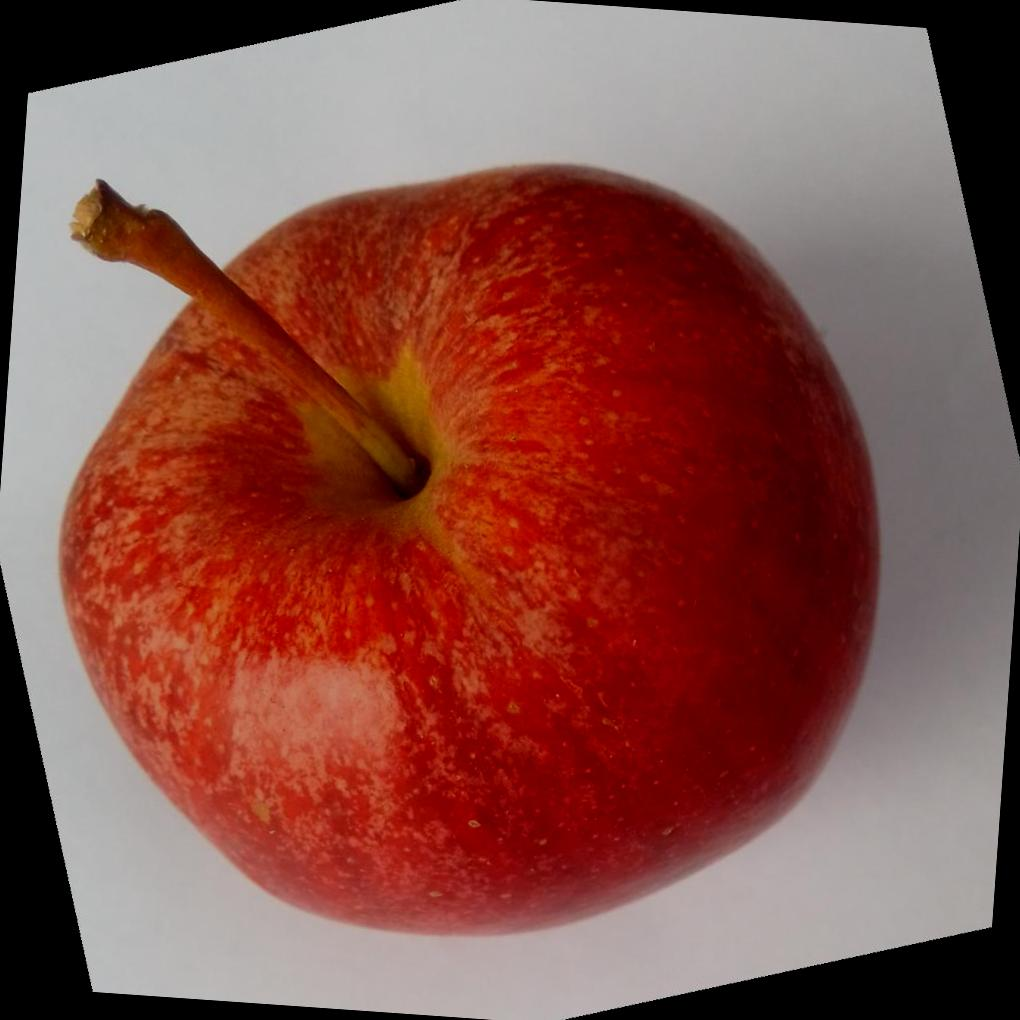FreshGuava: (55, 164, 883, 941)
